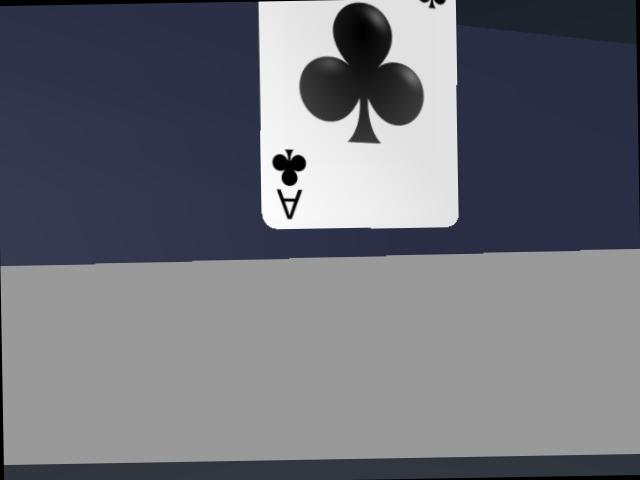spade: (258, 0, 457, 228)
